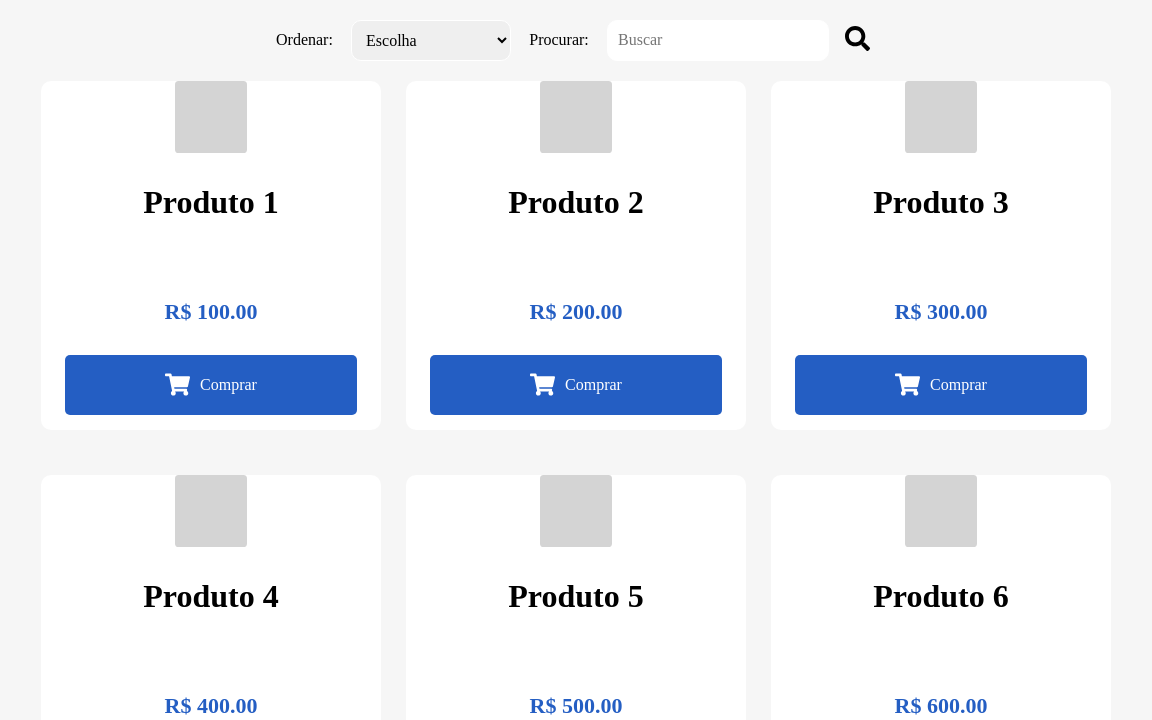
it: Produtos › Procurando produto
This screenshot has width=1152, height=720.
Expected: the heading "Produto 1" is shown, x1=143 y1=184 x2=279 y2=220
Type "Produto 2" into the field with placeholder "Buscar" at (718, 40), box x1=607 y1=20 x2=829 y2=61
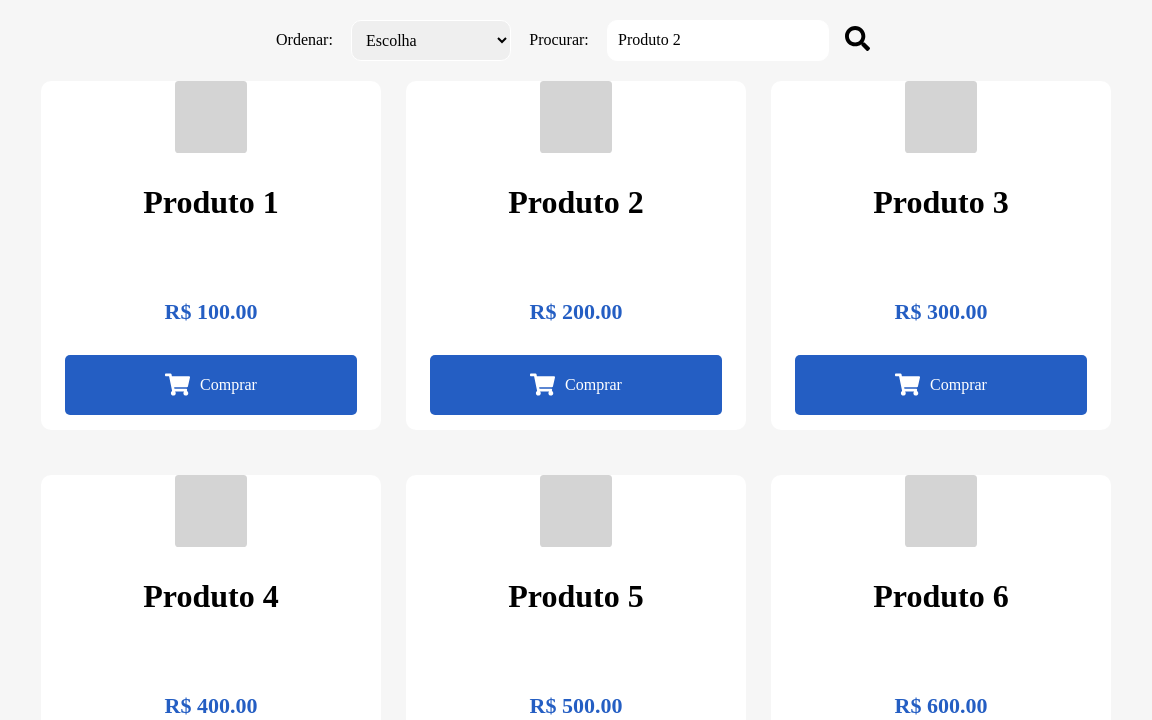
Submit the form from the button with test id "botaoSubmit", box x1=829 y1=25 x2=876 y2=56
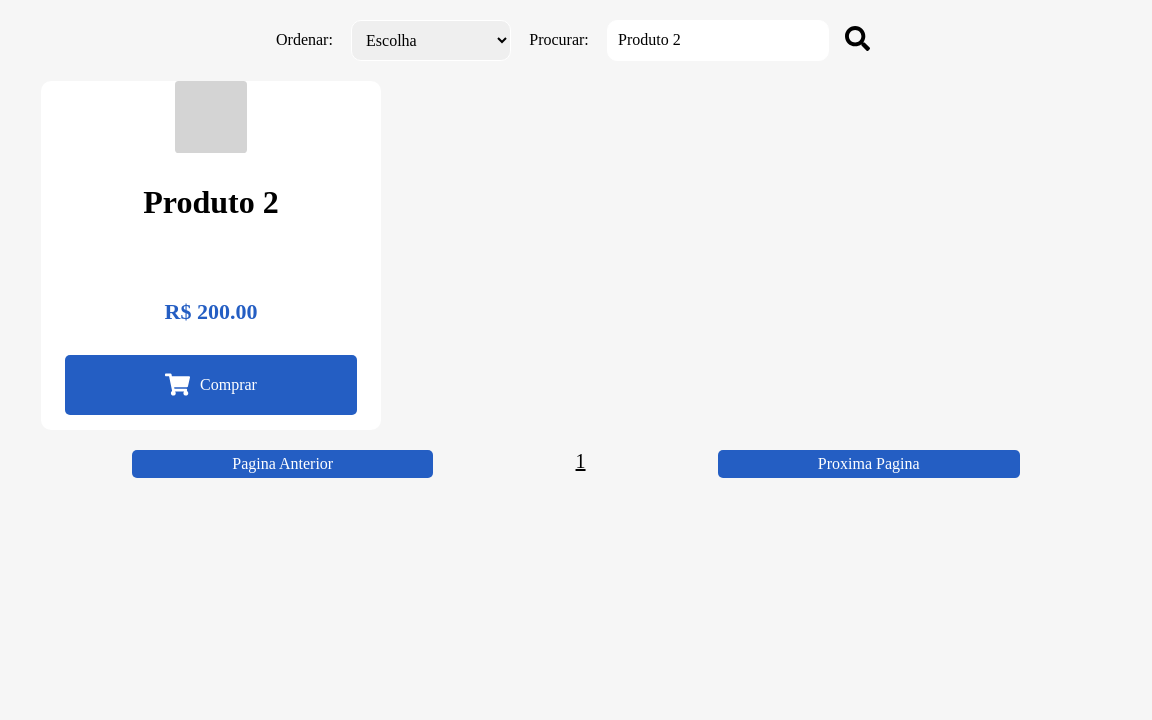
Expected: the heading "Produto 2" is shown, x1=143 y1=184 x2=279 y2=220
Now the heading "Produto 1" is gone
